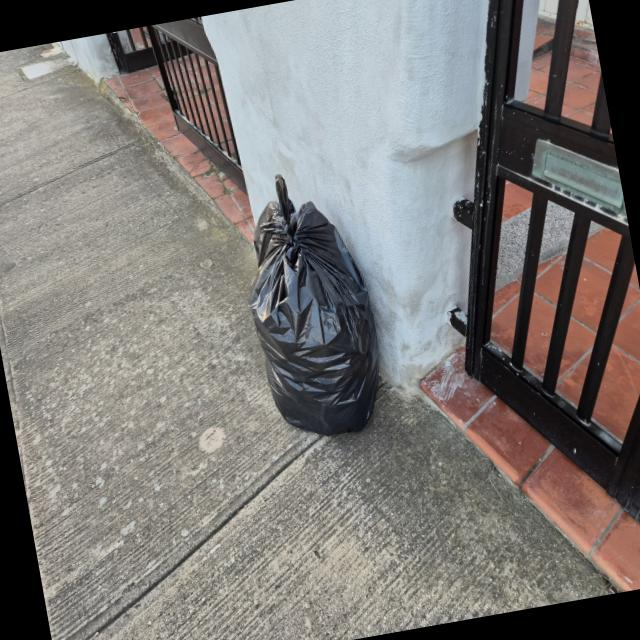black_bag: (232, 164, 392, 440)
